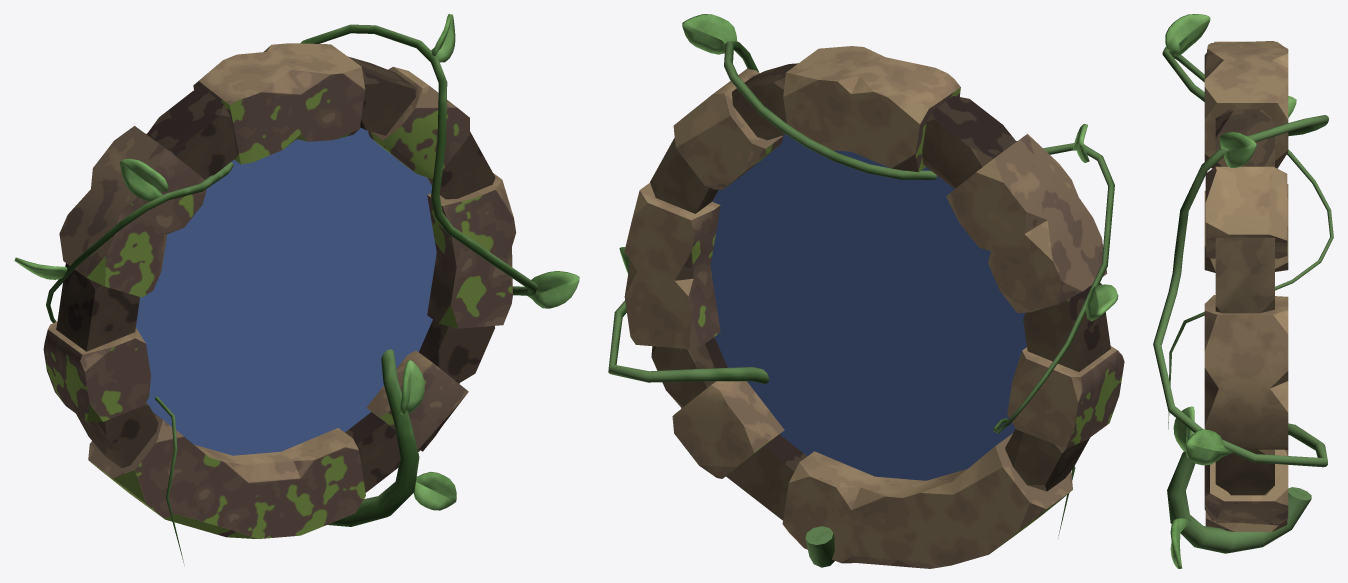
File: Portal.fbx
3 renders of one model, left to right at view 1: azimuth 30°, elevation 25°; view 2: azimuth 150°, elevation 25°; view 3: azimuth 270°, elevation 25°, orthographic. The views are drawn at different scales.
Visible parts, largest first — view 1: Portal, PortalSurface; view 2: Portal, PortalSurface; view 3: Portal.
Part boxes in pixels (bbox=[...]): Portal: bbox=[14, 14, 579, 565]; PortalSurface: bbox=[135, 127, 436, 455]; Portal: bbox=[608, 14, 1124, 568]; PortalSurface: bbox=[710, 134, 1026, 480]; Portal: bbox=[1153, 14, 1333, 568].
Size of the model in its own units: 314 by 281 by 97.55.
Materials: 2 (1 with a texture image).
